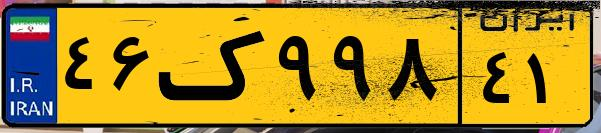1: (525, 38, 570, 115)
4: (57, 26, 110, 100), (475, 38, 525, 113)
6: (110, 28, 158, 98)
8: (385, 28, 445, 110)
9: (270, 28, 330, 110), (330, 28, 385, 110)
ک: (158, 12, 270, 120)
